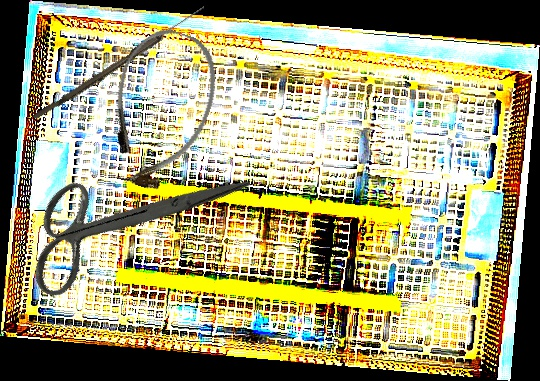Cannula: (89, 19, 231, 200)
Iris Scissors: (1, 91, 253, 352)
Surgical Spoon: (32, 2, 207, 124)
